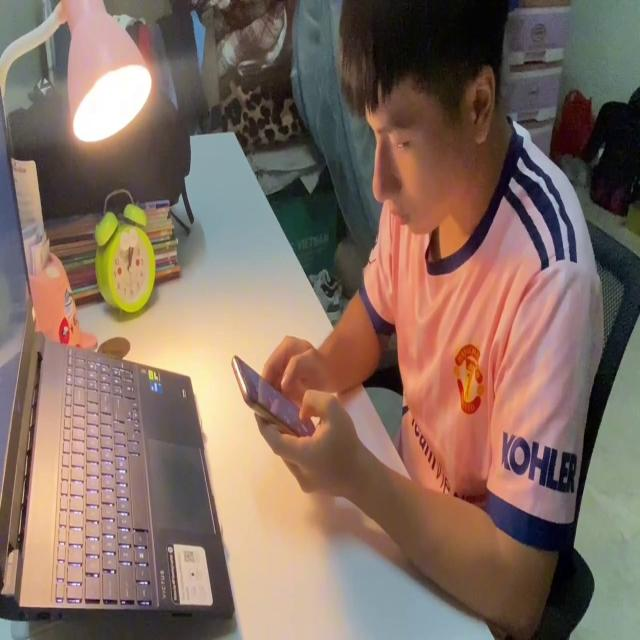laptop: (0, 80, 237, 621)
phone: (229, 345, 314, 438)
student: (252, 0, 602, 640)
